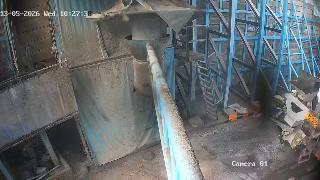cement_mixer_truck: (272, 68, 320, 169)
swing_chute: (125, 34, 169, 98)
